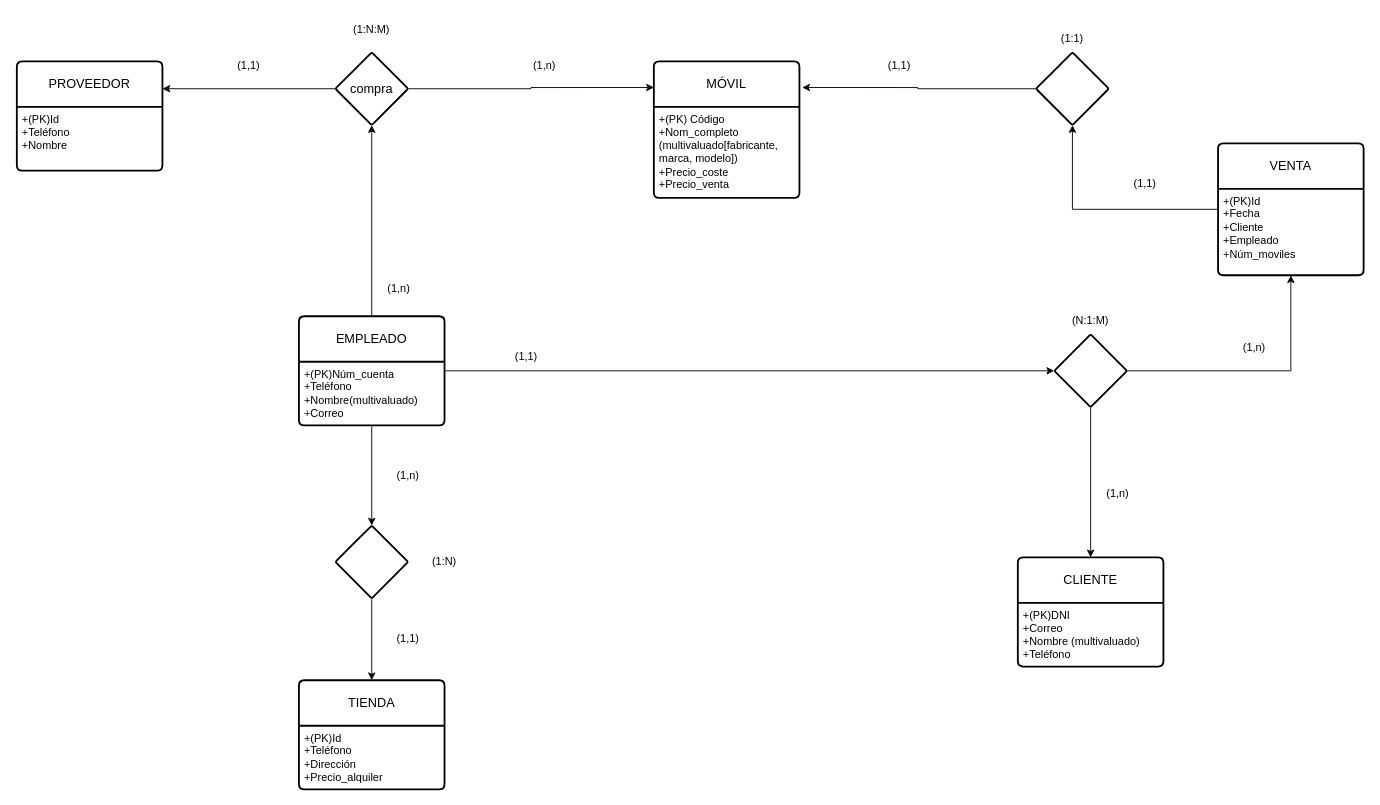
This 1380x805 diagram has some shape labels left out. The shapes that lost their labels are listed below. From the top down, each one's centre as x and y in pixels, then its label:
(x=1072, y=88): formada por
(x=1090, y=370): hace
(x=371, y=561): trabaja
